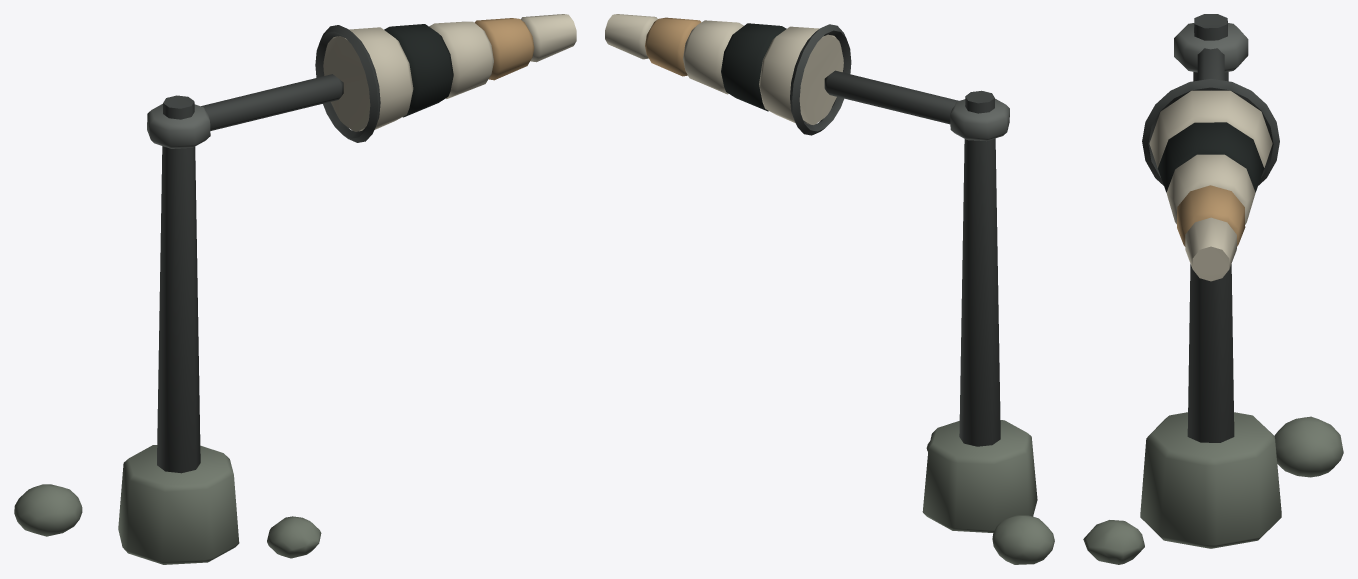
The model's file is windsock_a_lod1.glb.
3 views of the same model, side by side, from view 1: azimuth 30°, elevation 25°; view 2: azimuth 150°, elevation 25°; view 3: azimuth 270°, elevation 25° (orthographic). The views are drawn at different scales.
Parts seen in each view (by area): view 1: Surface.001; view 2: Surface.001; view 3: Surface.001.
Part boxes in pixels (<box>): Surface.001: <box>14,14,576,564</box>; Surface.001: <box>605,14,1054,564</box>; Surface.001: <box>1083,14,1343,564</box>.
Bounding box in the file's own units: 3.45 × 3.07 × 1.35.
